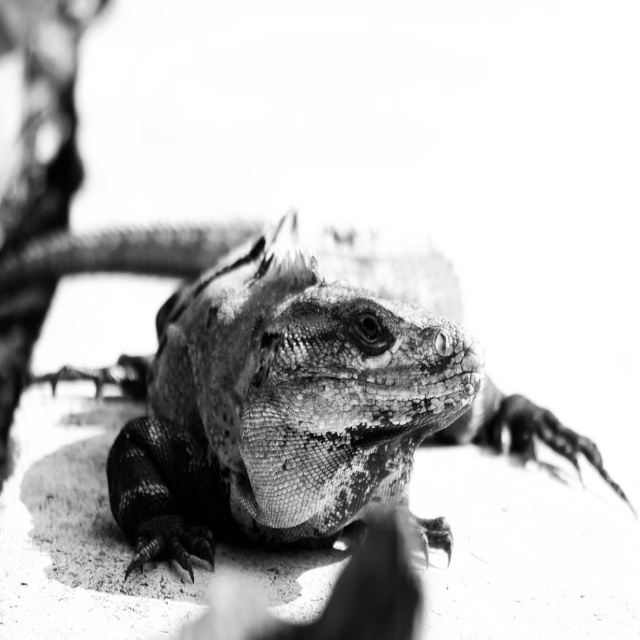Lizard: (0, 209, 631, 586)
